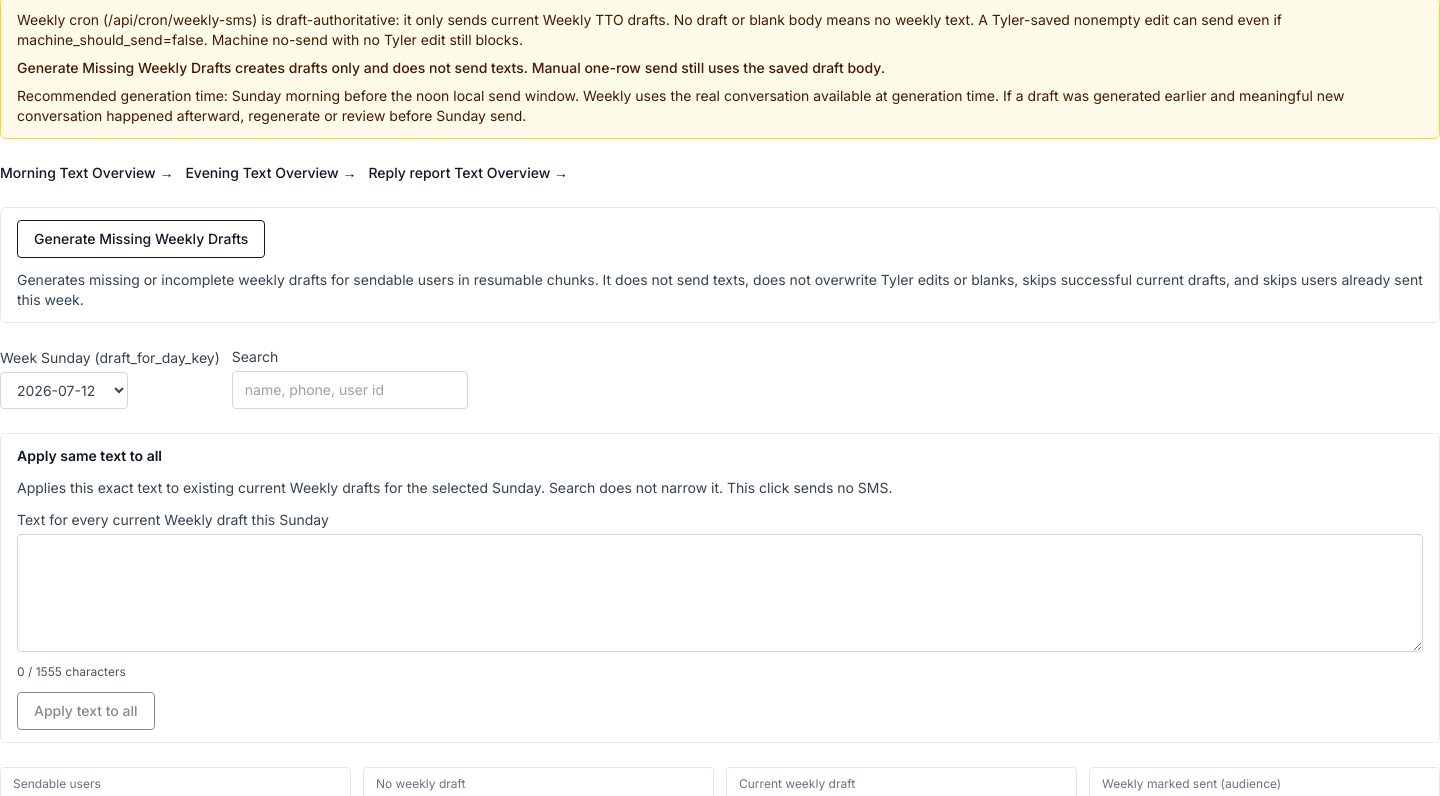
Test case: weekly dashboard stale list requests › keeps the Generate Missing reload when an older Sunday load resolves later
Click the button "Generate Missing Weekly Drafts".
click(141, 239)  # box [17,220,265,258]
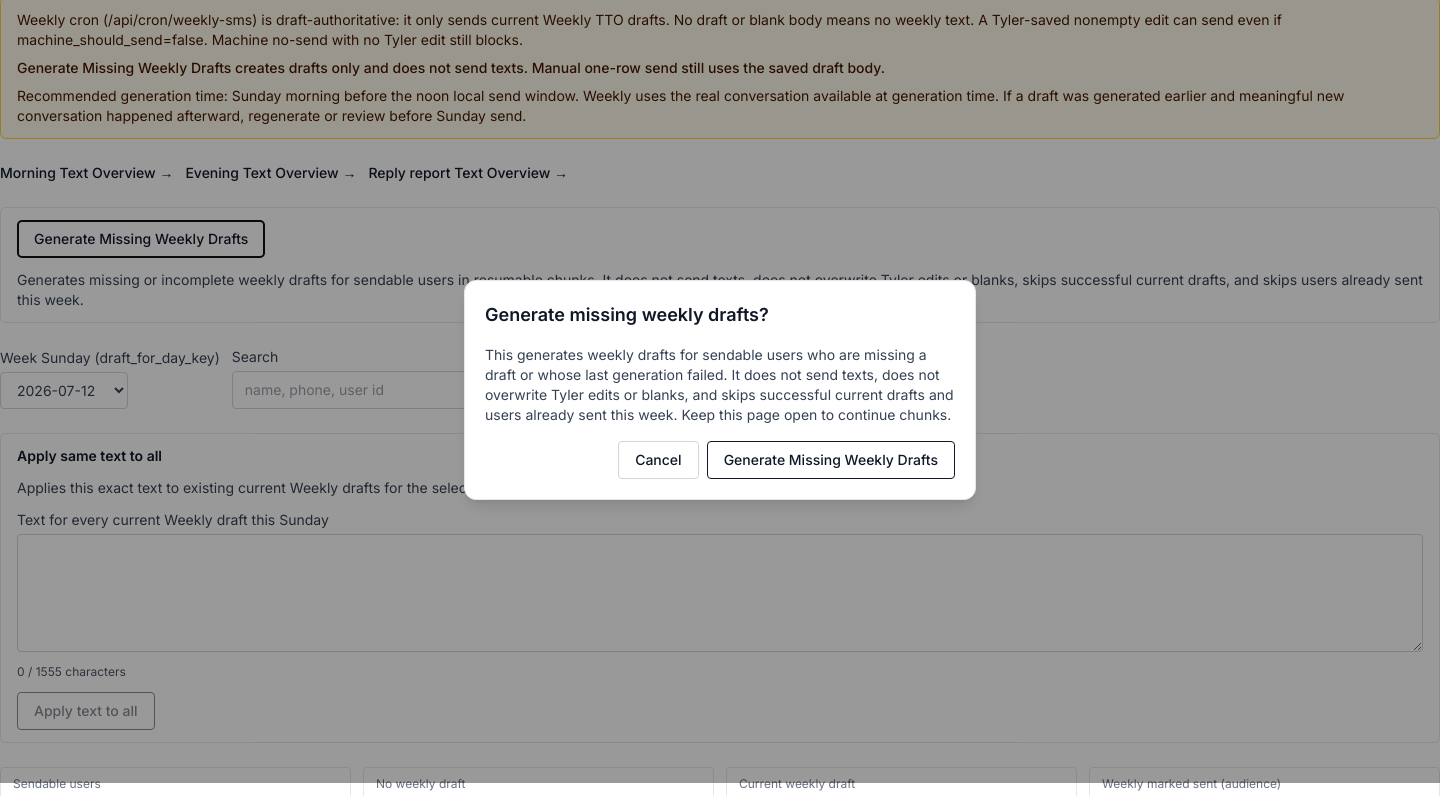
Click the button "Generate Missing Weekly Drafts".
click(831, 460)  # box [707,441,955,479]
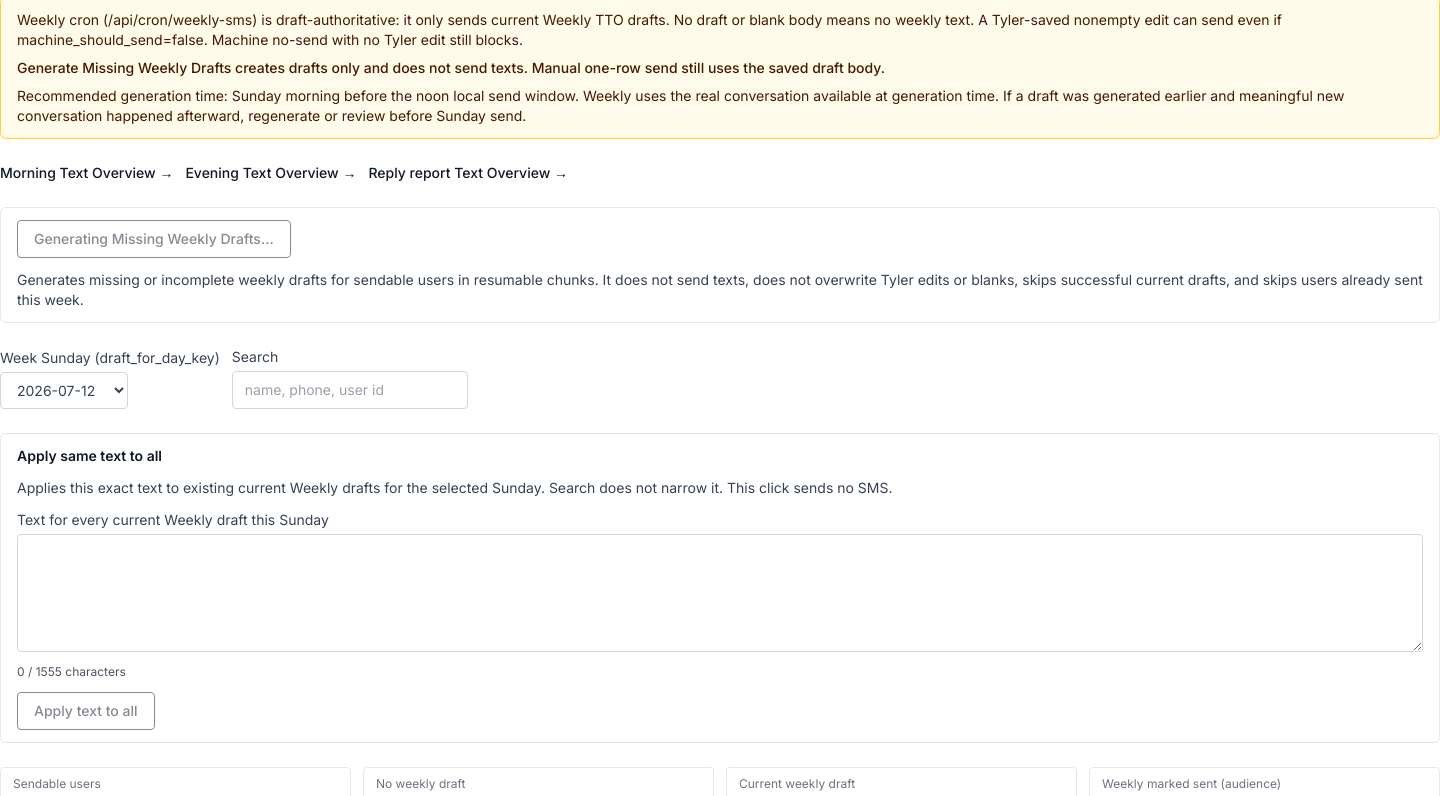
Select "2026-07-05" in the dropdown at (64, 390), box [0,372,128,409]
(page scrolled)
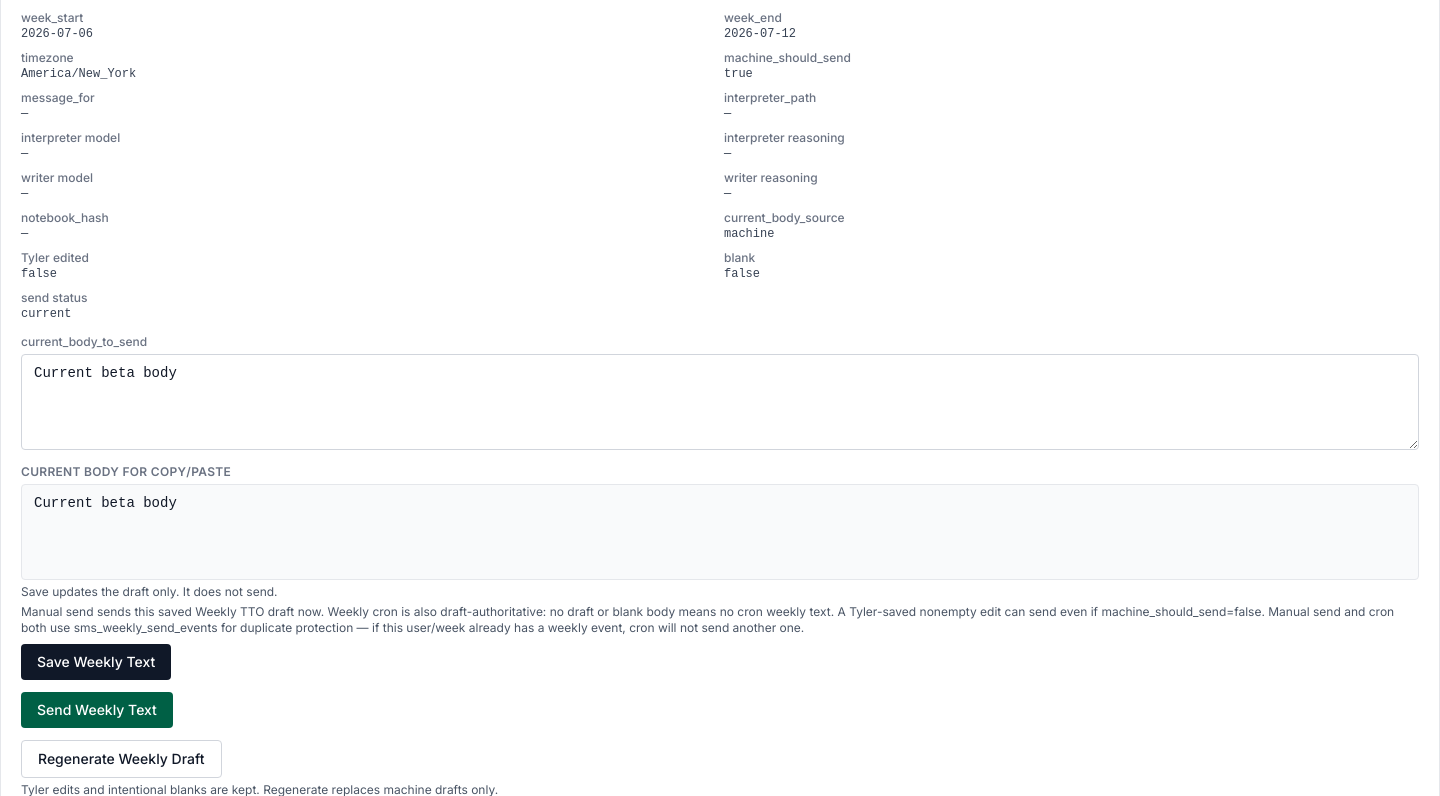
Now the text box showing "Current beta body" is shown, box [21,354,1419,450]
